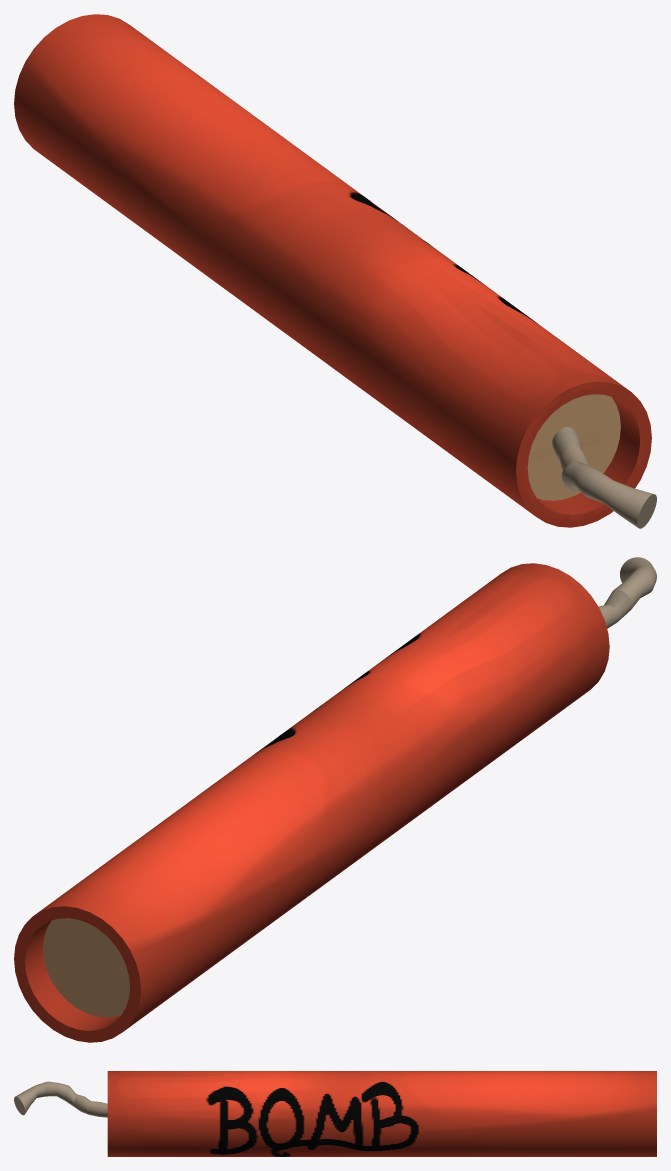
The model's file is Dinamite1.fbx.
3 views of the same model, one above another, from view 1: azimuth 30°, elevation 25°; view 2: azimuth 150°, elevation 25°; view 3: azimuth 270°, elevation 25° (orthographic). The views are drawn at different scales.
Visible parts, largest first — view 1: Dinamite1; view 2: Dinamite1; view 3: Dinamite1.
Boxes of the visible parts, <box> form: Dinamite1: <box>14,14,656,528</box>; Dinamite1: <box>14,557,656,1042</box>; Dinamite1: <box>14,1071,656,1156</box>.
Size of the model in its own units: 7.84 by 7.84 by 58.62.
Materials: 1 (1 with a texture image).
